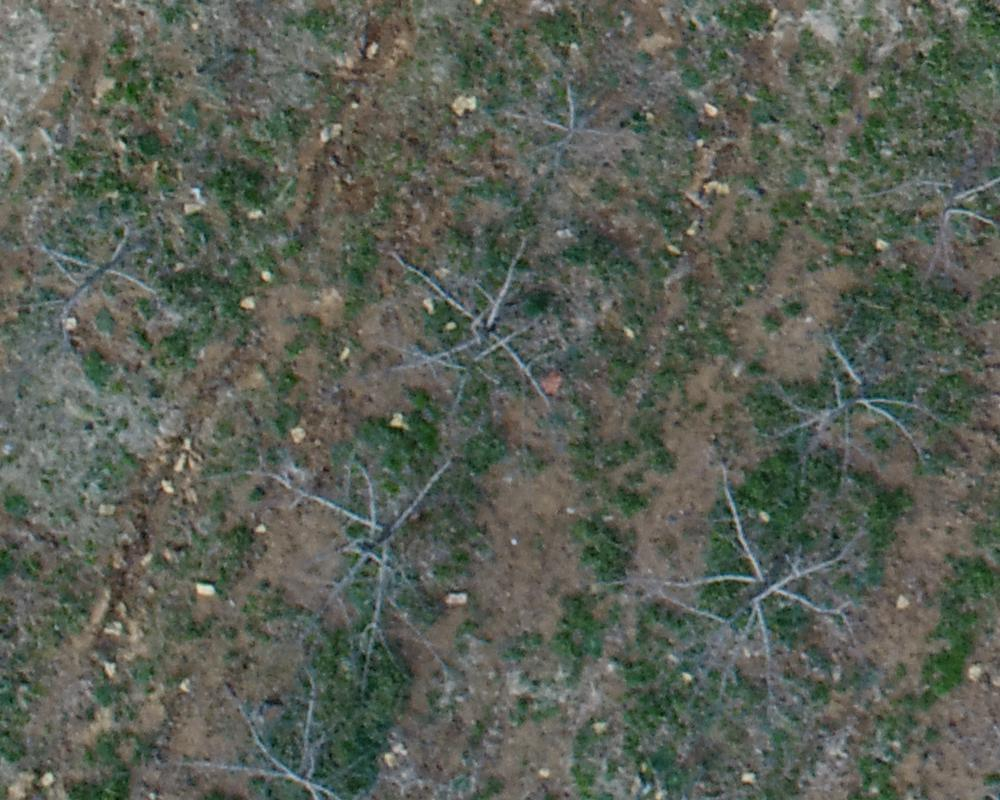apple: (637, 485, 896, 703), (262, 442, 496, 651), (377, 233, 580, 429), (734, 331, 977, 488), (202, 670, 432, 790), (10, 204, 196, 345), (470, 72, 661, 188), (870, 136, 990, 304)
